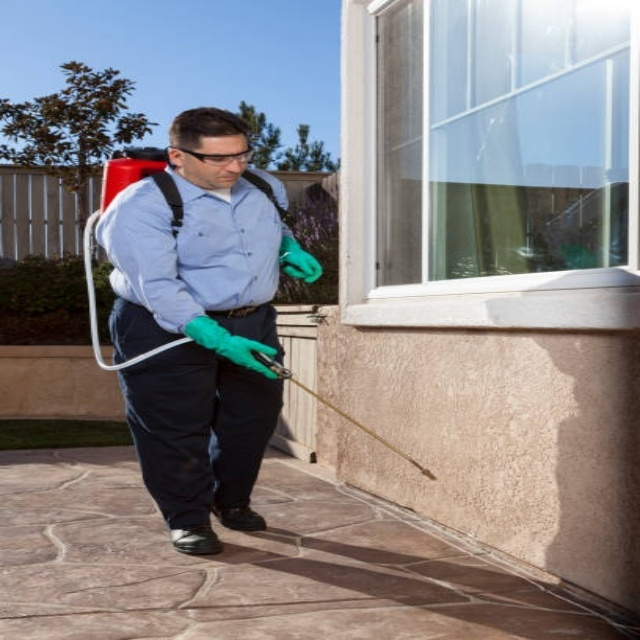Gafas: (173, 145, 255, 165)
Guantes: (184, 315, 281, 378), (278, 236, 322, 284), (559, 243, 597, 270)
Sin_mascara: (201, 172, 242, 188)
